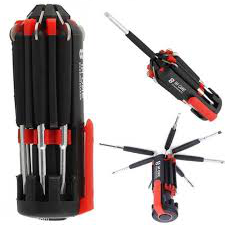Screwdriver: (9, 5, 87, 214), (101, 6, 225, 131), (96, 136, 165, 159)
